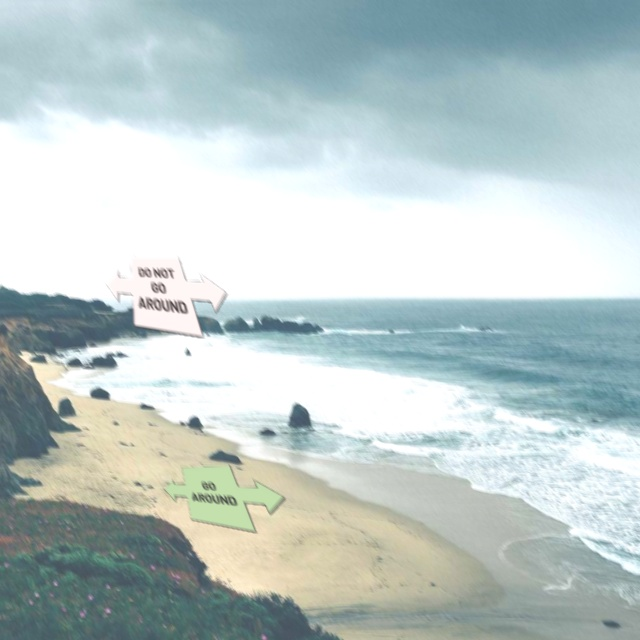DO_NOT_GO_AROUND: (104, 253, 226, 335)
GO_AROUND: (162, 462, 284, 530)
